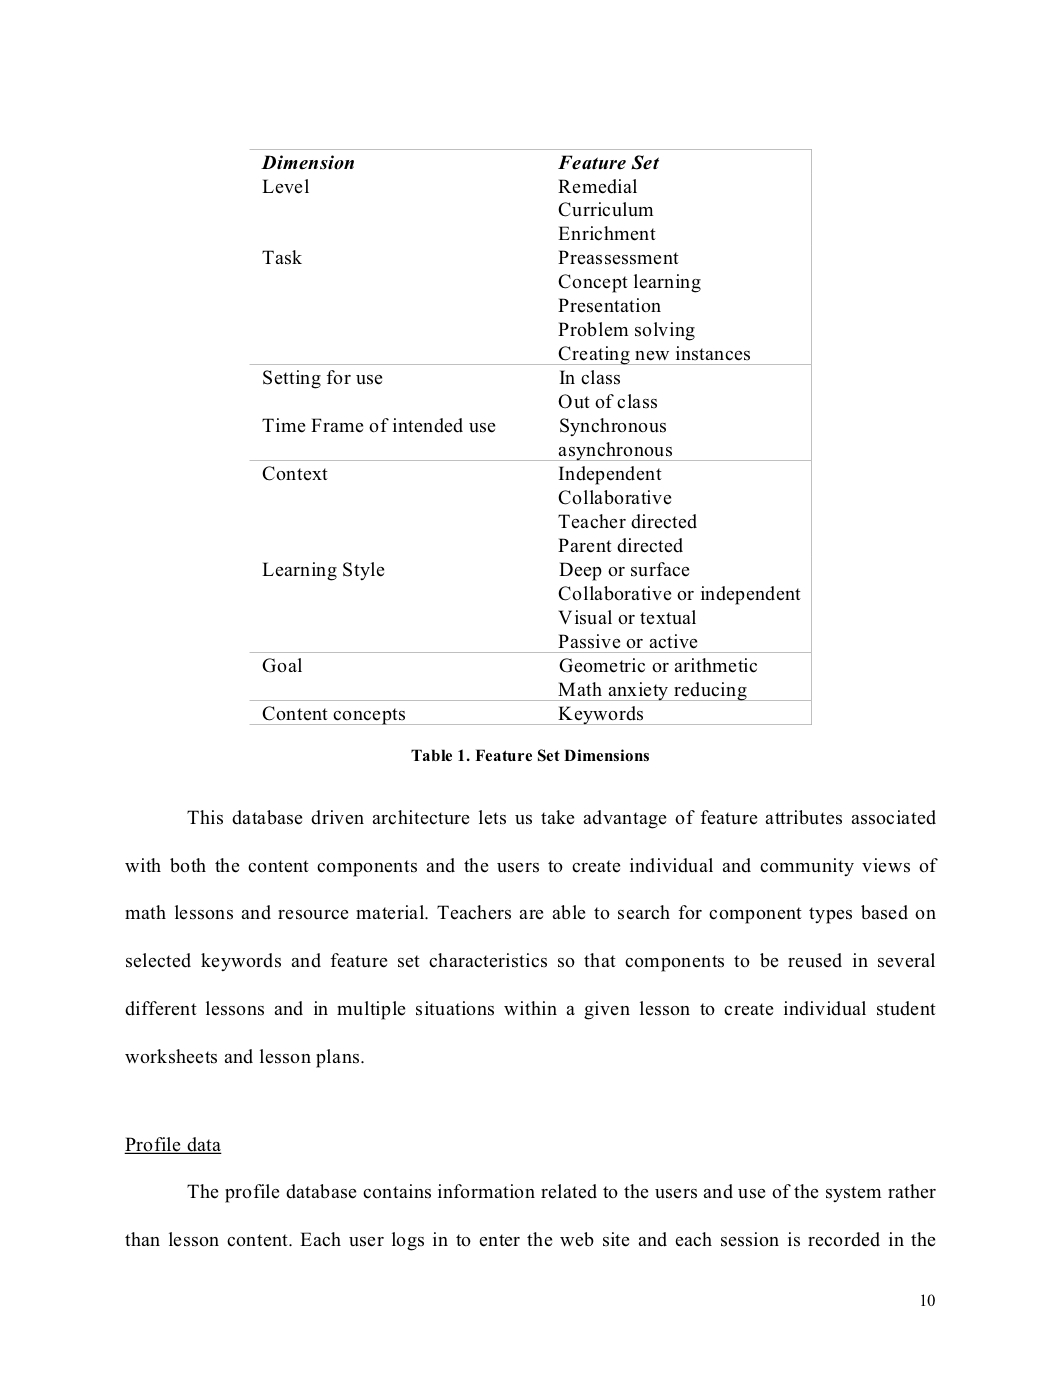Table: (249, 149, 811, 724)
